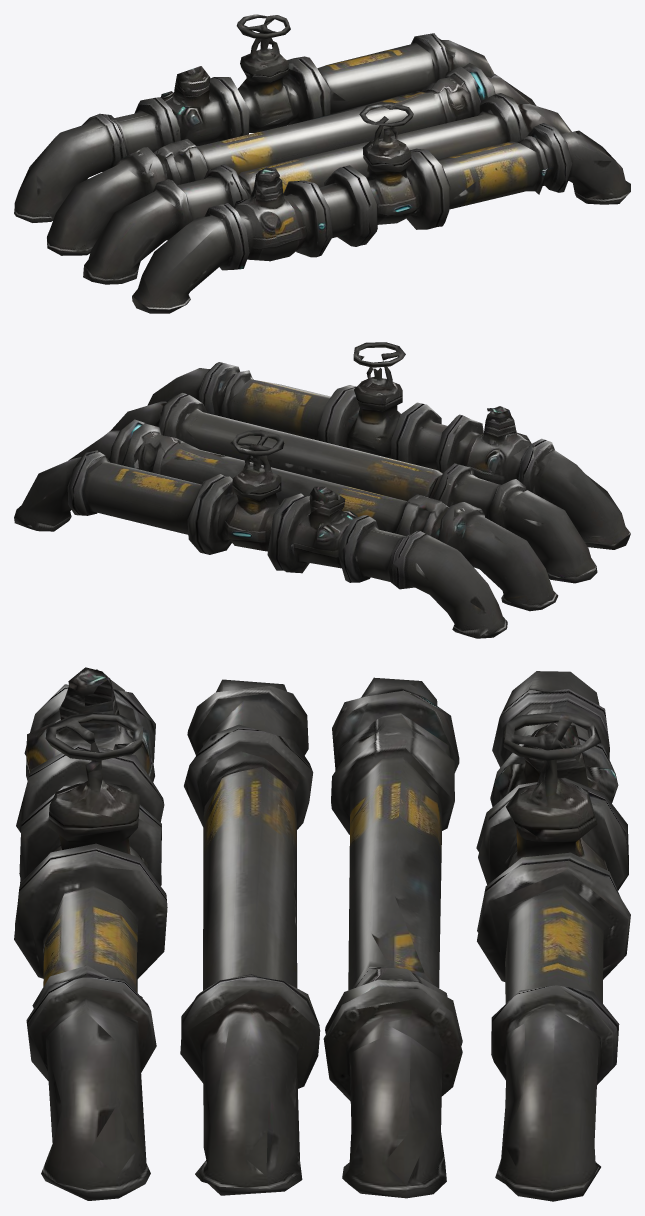
Rendered from tuyau_droit.glb.
3 renders of one model, top to bottom at view 1: azimuth 30°, elevation 25°; view 2: azimuth 150°, elevation 25°; view 3: azimuth 270°, elevation 25°, orthographic. The views are drawn at different scales.
Parts seen in each view (by area): view 1: tripo_node_b5a295e9-1e08-425e-9c35-e72bfd27012b; view 2: tripo_node_b5a295e9-1e08-425e-9c35-e72bfd27012b; view 3: tripo_node_b5a295e9-1e08-425e-9c35-e72bfd27012b.
Boxes of the visible parts, bbox=[...] form: tripo_node_b5a295e9-1e08-425e-9c35-e72bfd27012b: bbox=[14, 14, 630, 313]; tripo_node_b5a295e9-1e08-425e-9c35-e72bfd27012b: bbox=[14, 342, 630, 638]; tripo_node_b5a295e9-1e08-425e-9c35-e72bfd27012b: bbox=[14, 667, 630, 1201].
Bounding box in the file's own units: 0.9948 × 0.2567 × 0.5693.
Materials: 1 (1 with a texture image).
